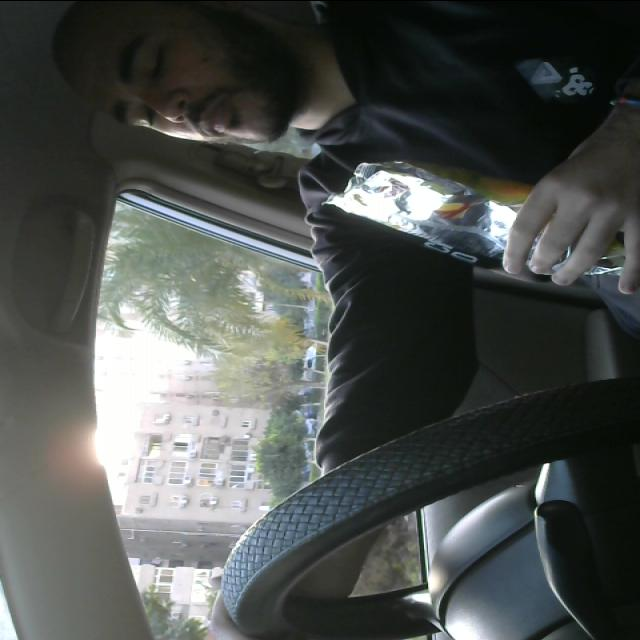eating: (321, 150, 640, 296)
